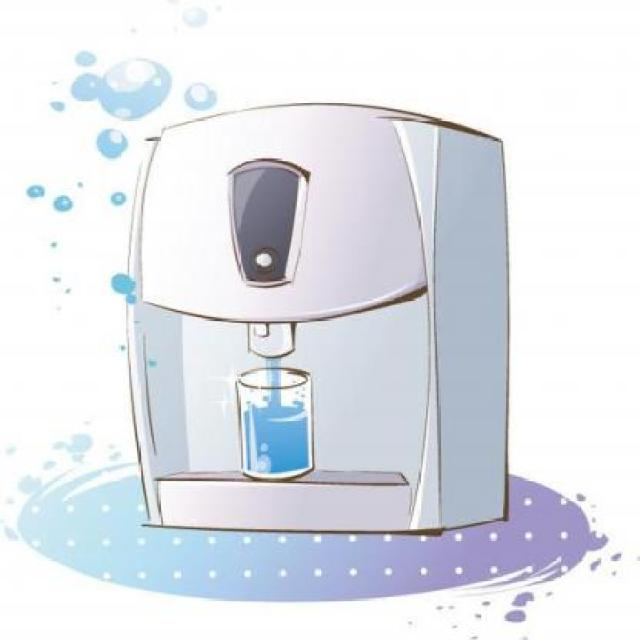cooler: (123, 97, 517, 537)
